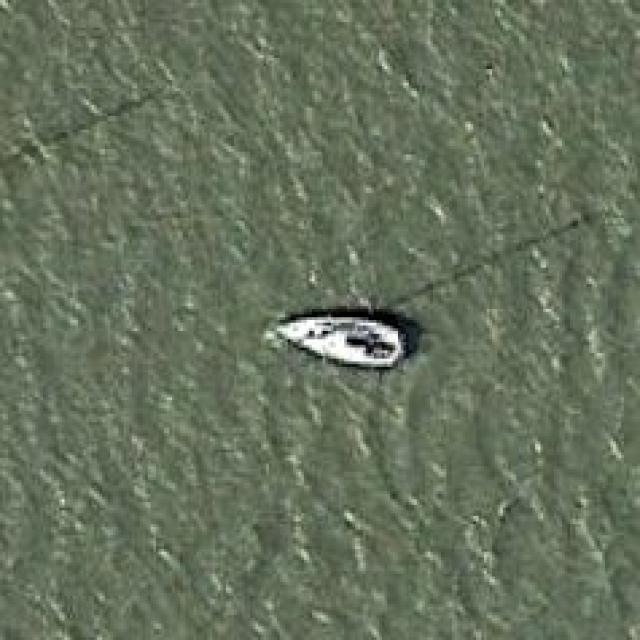ship: (269, 306, 409, 375)
